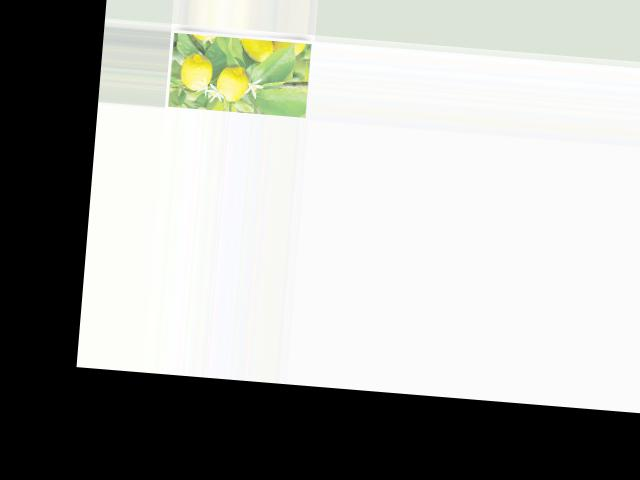lemon: (215, 63, 249, 105)
